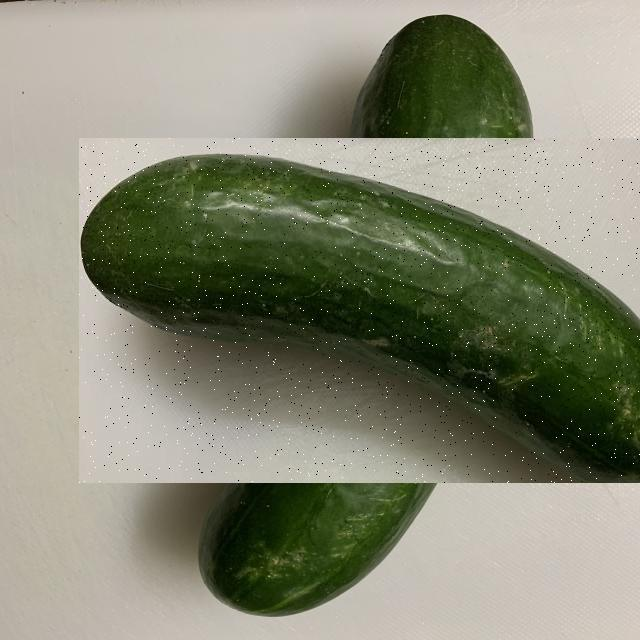Cucumber: (79, 152, 637, 490), (204, 482, 422, 611), (366, 18, 523, 132)
